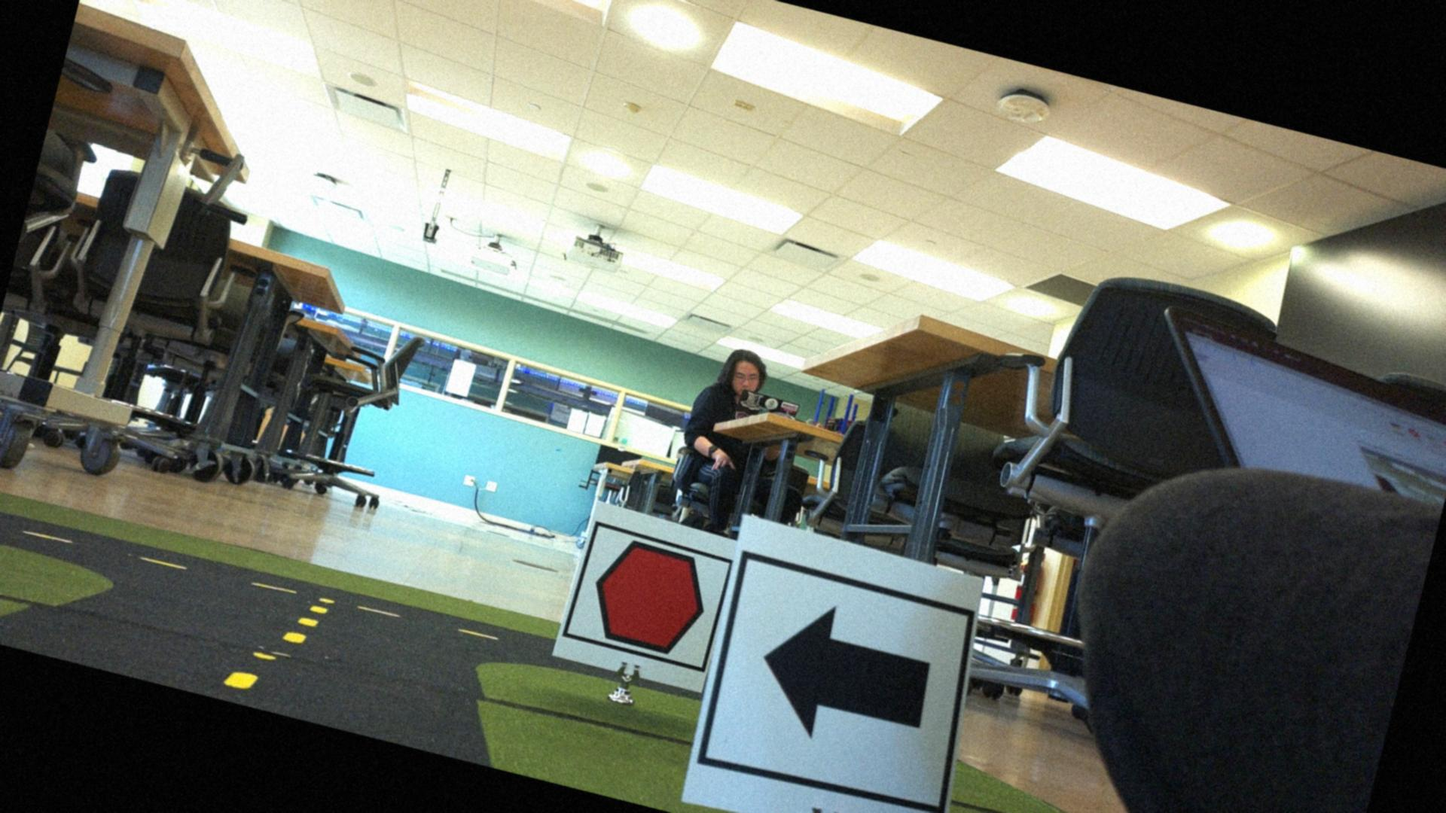stop: (569, 528, 730, 671)
turnright: (693, 558, 975, 812)
yellowline: (224, 589, 329, 708)
